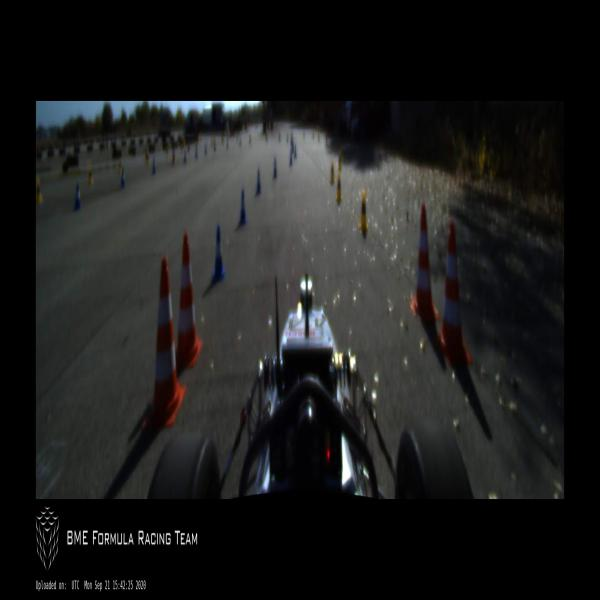blue_cone: (211, 224, 225, 282), (238, 188, 246, 226), (73, 183, 82, 212), (120, 166, 126, 189), (256, 168, 261, 194), (273, 156, 277, 179), (151, 160, 156, 174), (183, 150, 187, 163), (294, 143, 297, 159), (194, 146, 198, 158), (291, 138, 294, 152), (290, 148, 292, 166), (204, 143, 207, 154), (278, 132, 281, 142), (291, 131, 293, 145), (226, 138, 228, 150), (265, 131, 267, 142), (286, 134, 288, 144), (249, 136, 251, 146), (214, 140, 216, 150), (239, 137, 241, 146)
large_orange_cone: (142, 256, 187, 433), (434, 220, 472, 368), (175, 234, 202, 369), (410, 204, 440, 324)
yellow_cone: (358, 190, 368, 231), (335, 172, 342, 202), (36, 178, 43, 204), (88, 164, 94, 185), (330, 161, 335, 184), (118, 159, 122, 174), (338, 153, 341, 172), (146, 150, 149, 164), (317, 132, 320, 142), (330, 140, 333, 150), (199, 136, 201, 150), (188, 139, 190, 152), (166, 146, 168, 158), (303, 131, 305, 141), (326, 136, 328, 146), (250, 132, 252, 142), (312, 131, 314, 140), (236, 133, 238, 142), (222, 136, 224, 145), (211, 137, 213, 146), (182, 143, 183, 154)
